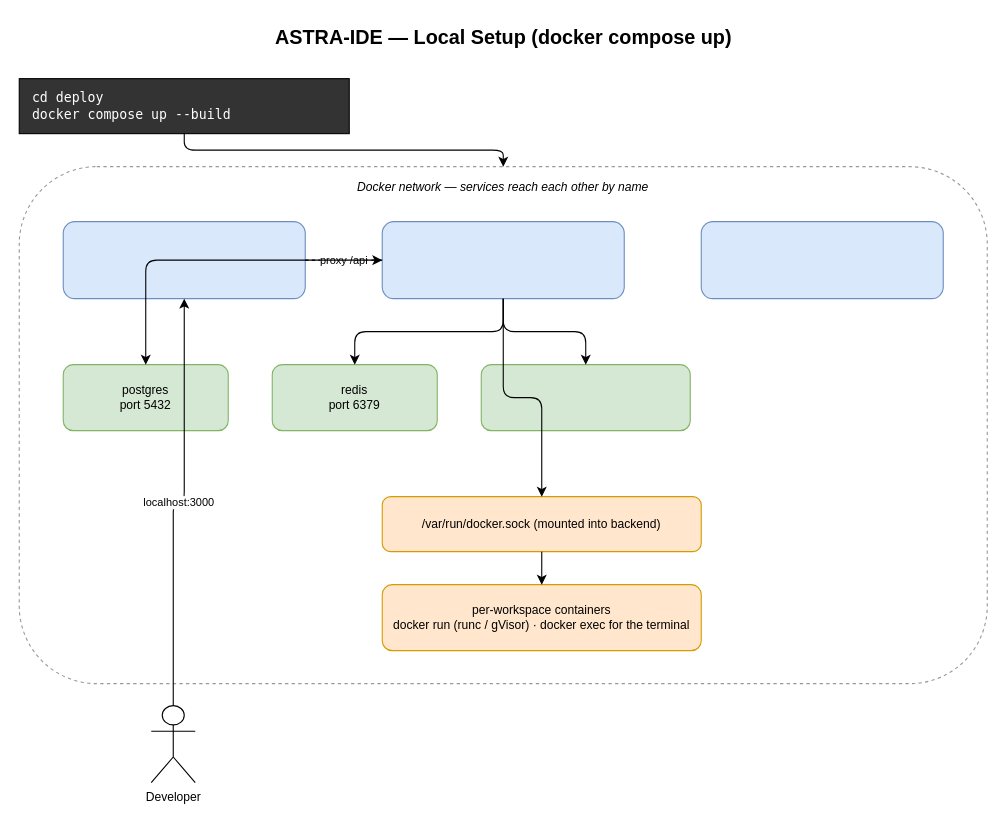
The diagram is 1007 pixels wide and 823 high, and some of its shapes have lost their labels. Each missing label, with the box of its shape:
backend (FastAPI) port 8000 docs at /api/v1/docs: (381, 221, 624, 299)
collab (y-websocket) port 1234 /healthz: (700, 221, 943, 299)
frontend (Next.js) port 3000 open http://localhost:3000: (62, 221, 305, 299)
minio (S3) port 9000 · console 9001: (480, 364, 690, 431)
